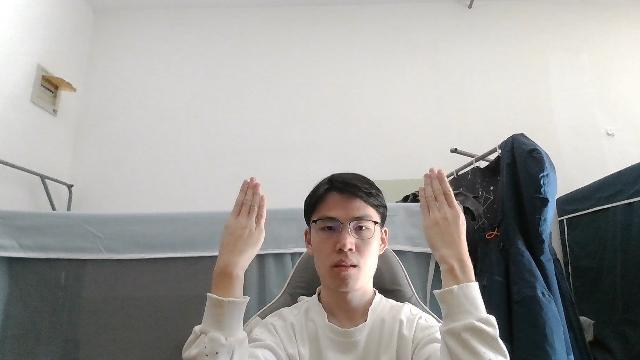four: (219, 174, 267, 266), (419, 167, 466, 255)
